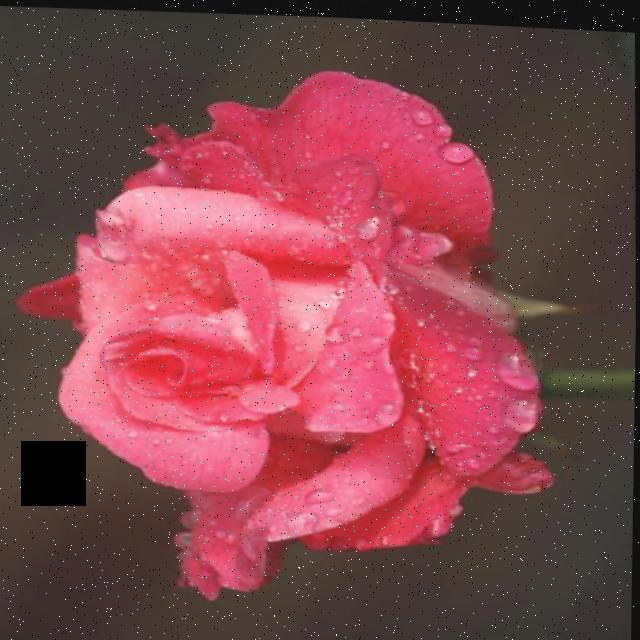rose: (0, 49, 558, 626)
